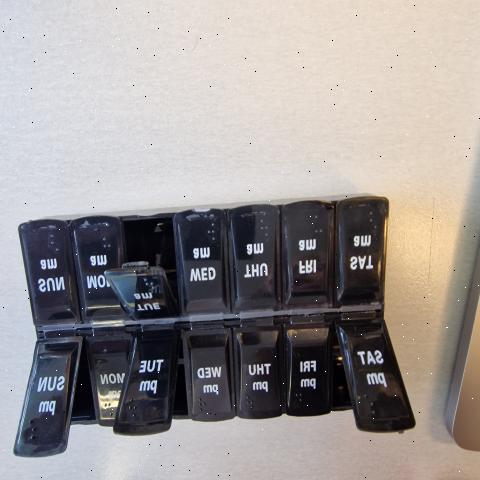Open: (120, 216, 183, 312), (65, 334, 98, 449), (332, 317, 358, 428), (170, 331, 191, 427)
